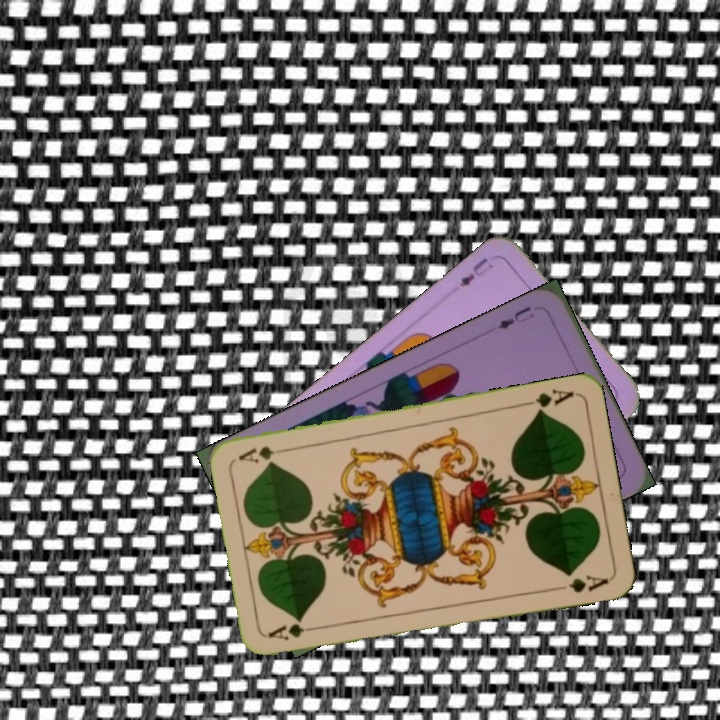EU: (455, 253, 496, 290), (493, 302, 537, 332)
GA: (518, 385, 576, 416), (265, 620, 324, 643)
